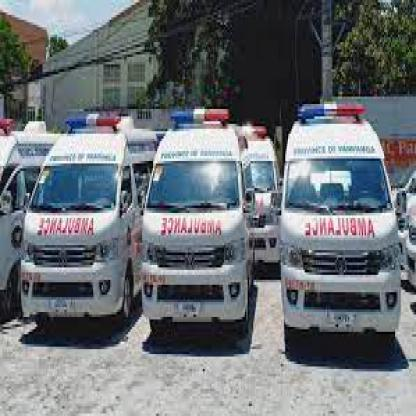van: (20, 109, 158, 329), (280, 96, 396, 342), (149, 106, 248, 332)
